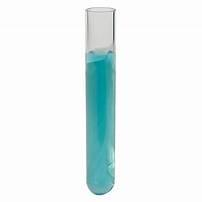Test tube: (80, 11, 117, 197)
